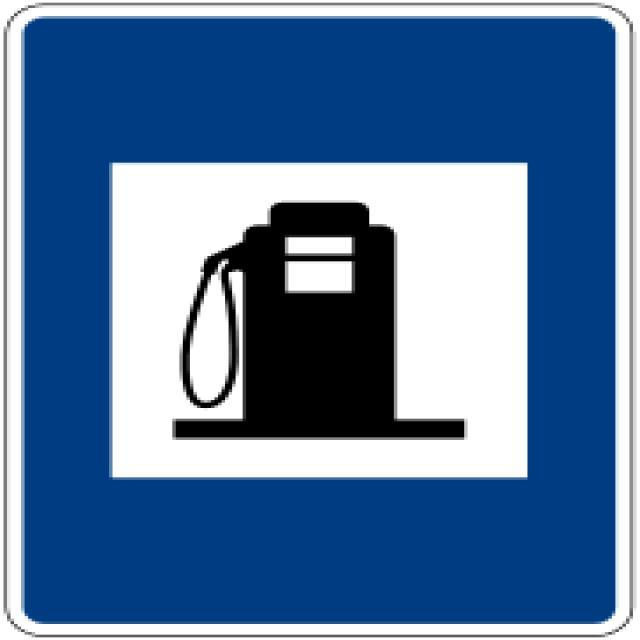petrol pump ahead: (72, 122, 565, 510)
